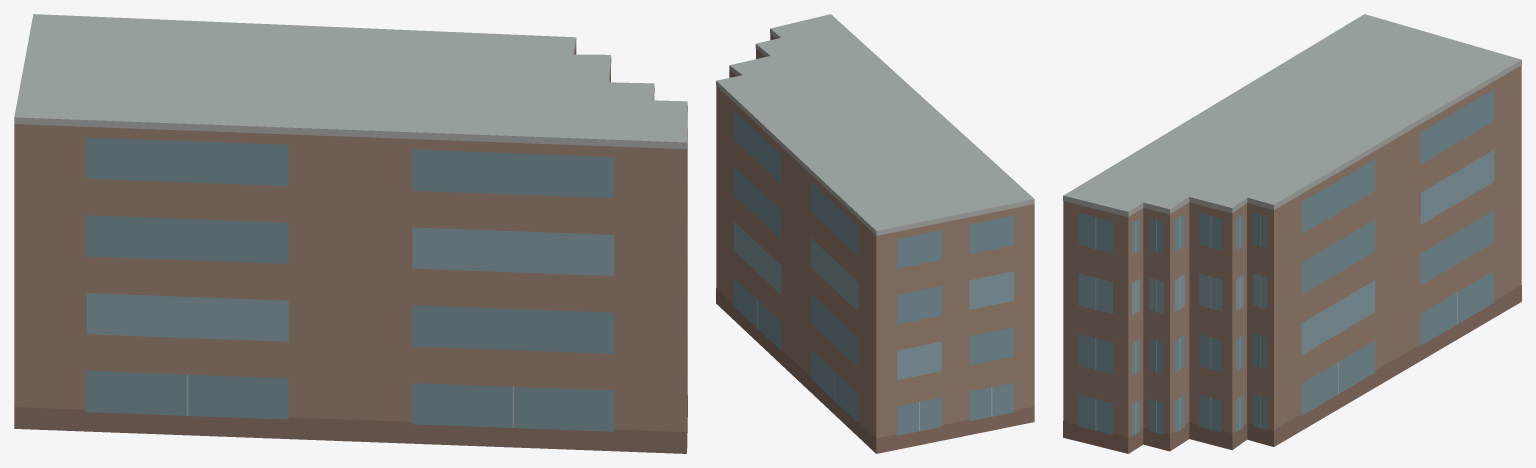
File: survey-upis-32650367.glb
The picture shows the model from 3 angles, left to right: view 1: azimuth 30°, elevation 25°; view 2: azimuth 150°, elevation 25°; view 3: azimuth 270°, elevation 25°; orthographic projection. The views are drawn at different scales.
Parts seen in each view (by area): view 1: survey-upis-32650367.tmp; view 2: survey-upis-32650367.tmp; view 3: survey-upis-32650367.tmp.
Part boxes in pixels (x1,y1,x2,y2): survey-upis-32650367.tmp: (14, 14, 687, 453); survey-upis-32650367.tmp: (716, 14, 1034, 453); survey-upis-32650367.tmp: (1063, 14, 1521, 453).
Size of the model in its own units: 19.64 by 11.2 by 19.24.
